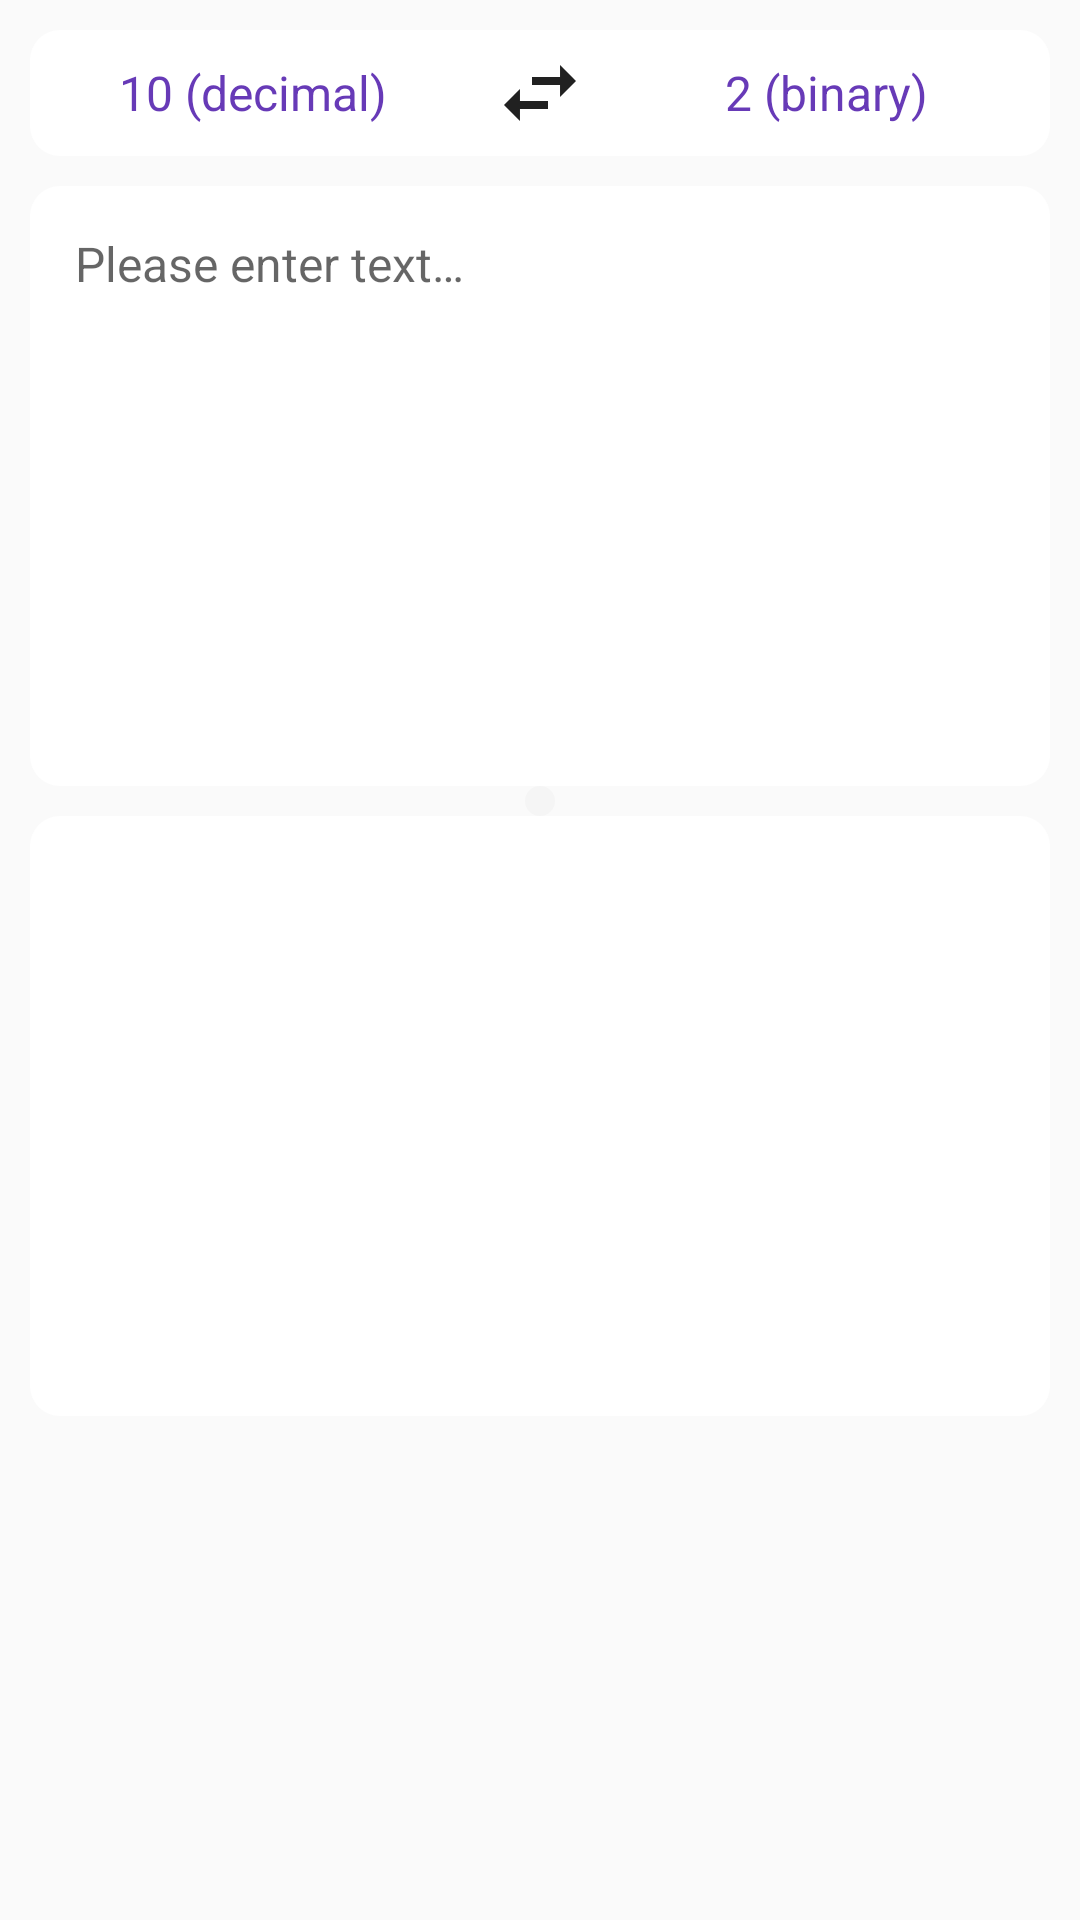

Screen size 1080x1920. Icon name, then its center in pixels as (x,y):
Swap: (540,93)
